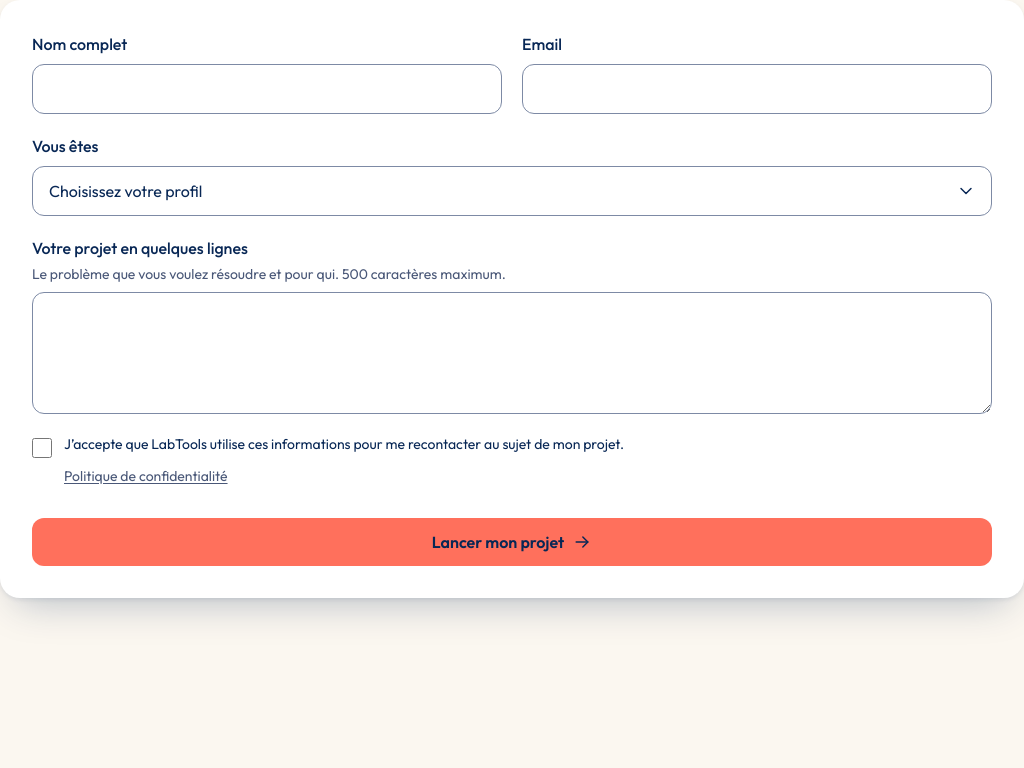
Test case: ProjectForm › désactive le bouton pendant l’envoi
In the field labelled "Nom complet": (267, 89) top-left (32, 64), bottom-right (502, 114), type "Awa Diallo"
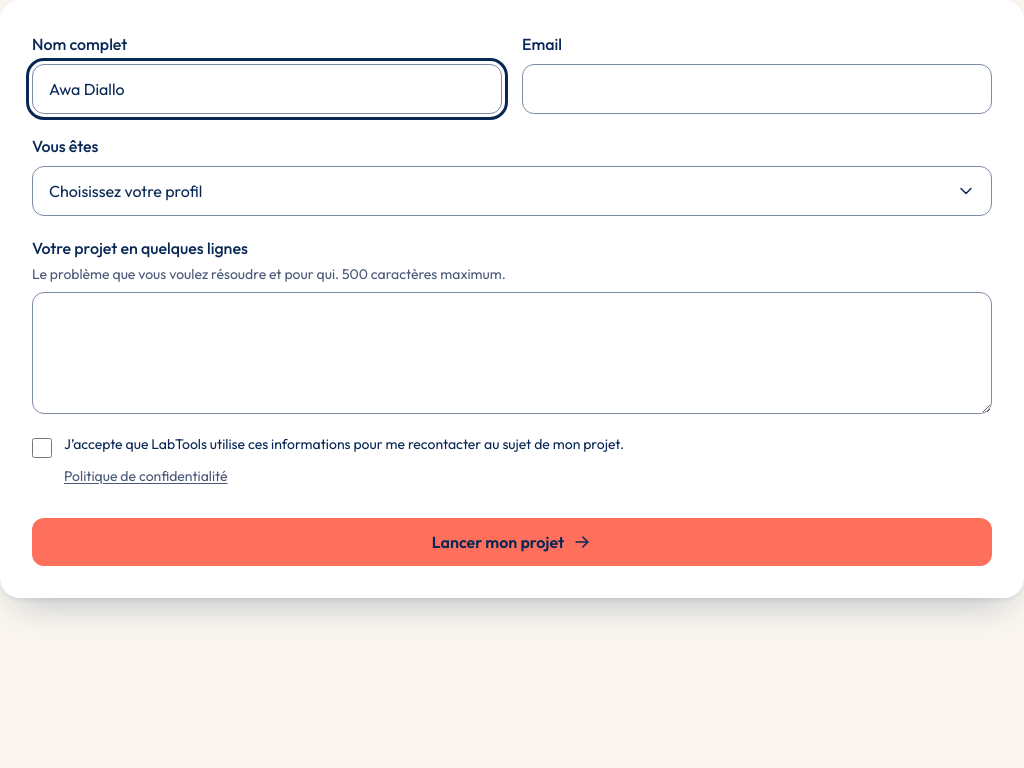
In the field labelled "Email": (757, 89) top-left (522, 64), bottom-right (992, 114), type "awa@exemple.com"
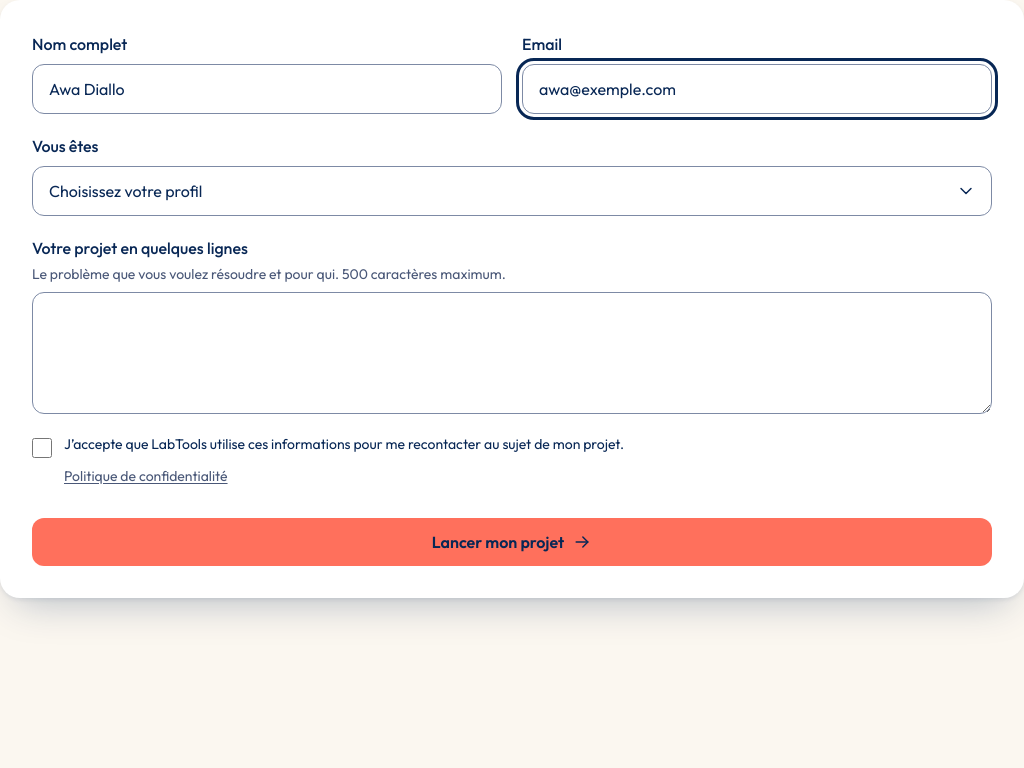
Select "Étudiant·e" in the dropdown labelled "Vous êtes": (512, 191) top-left (32, 166), bottom-right (992, 216)
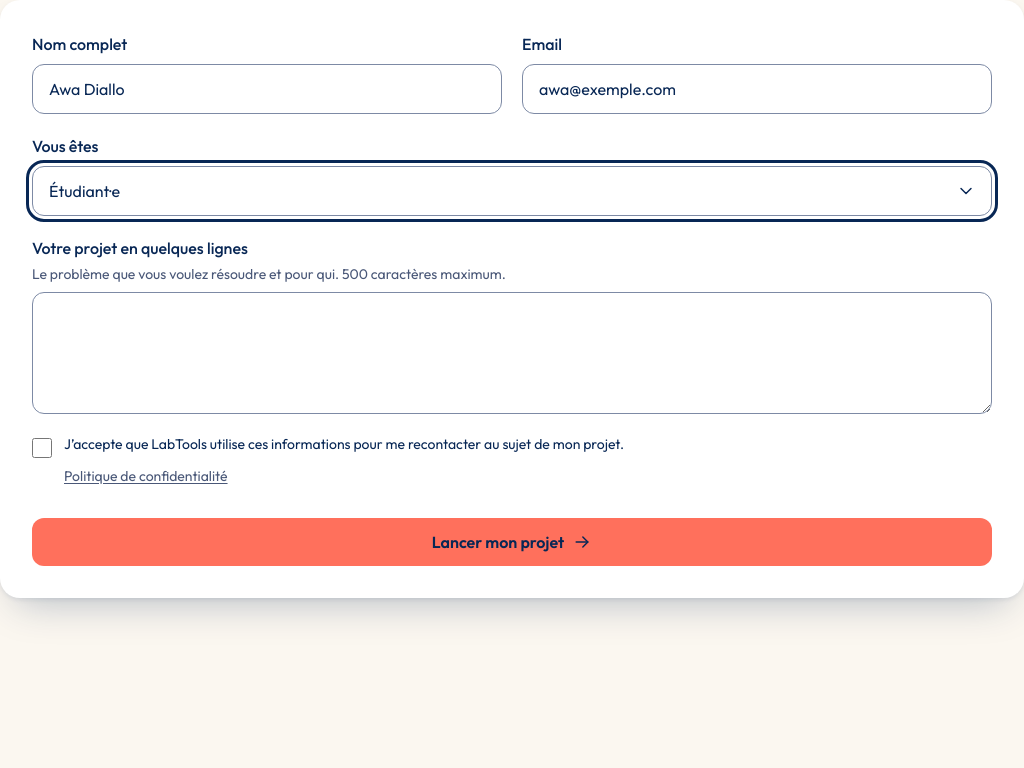
In the text box labelled "Votre projet en quelques lignes": (512, 353) top-left (32, 292), bottom-right (992, 414), type "Une plateforme de soutien scolaire en ligne."
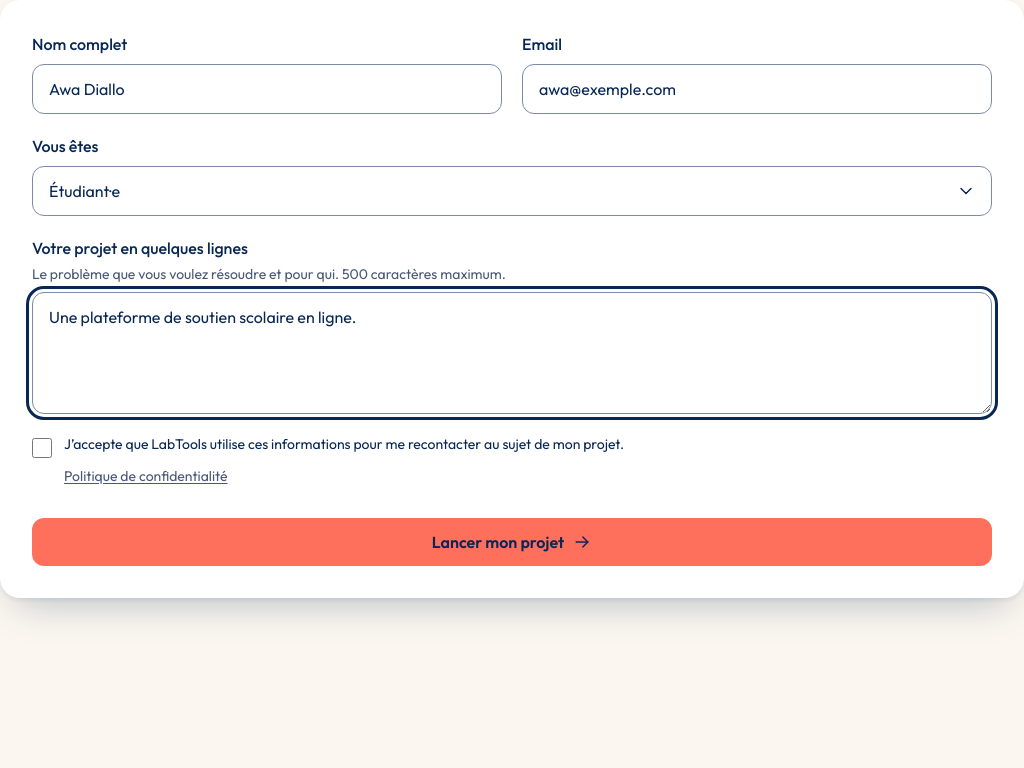
Click the checkbox named "J’accepte que LabTools utilise ces informations pour me recontacter au sujet de mon projet.": click(42, 448) top-left (32, 438), bottom-right (52, 458)
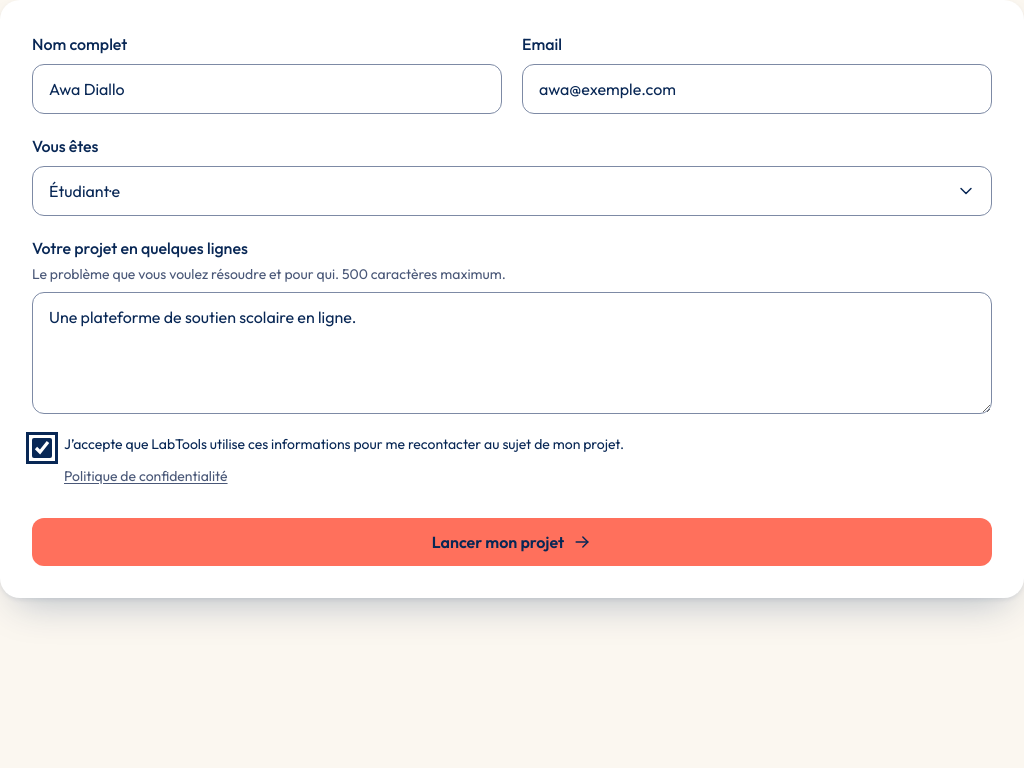
Click the button "Lancer mon projet": click(512, 542) top-left (32, 518), bottom-right (992, 566)
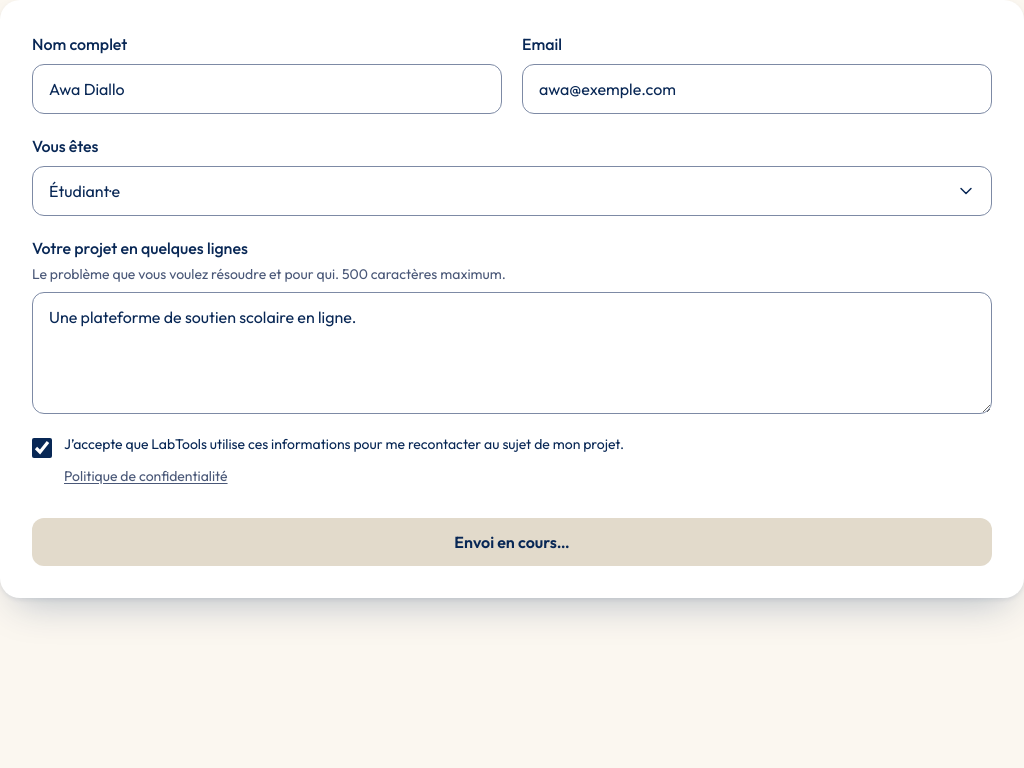
expect the button "Envoi en cours…" is disabled: met, box top-left (32, 518), bottom-right (992, 566)
